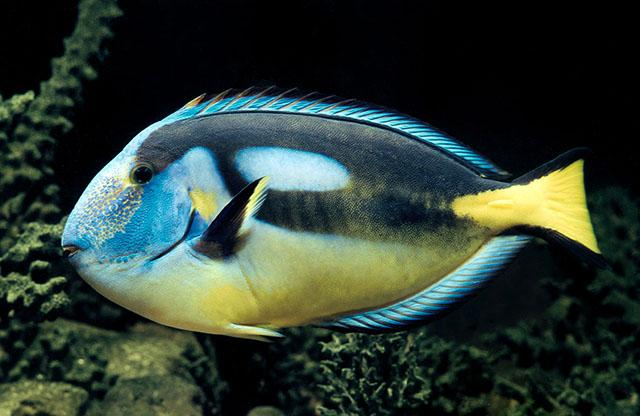Mulut: (43, 220, 105, 292)
Sirip Anal: (302, 224, 548, 338)
Sirip Dada: (182, 164, 282, 276)
Sirip Ekor: (501, 132, 615, 270)
Sirip Perut: (208, 310, 294, 360)
Sirip Punggung: (168, 78, 514, 186)
